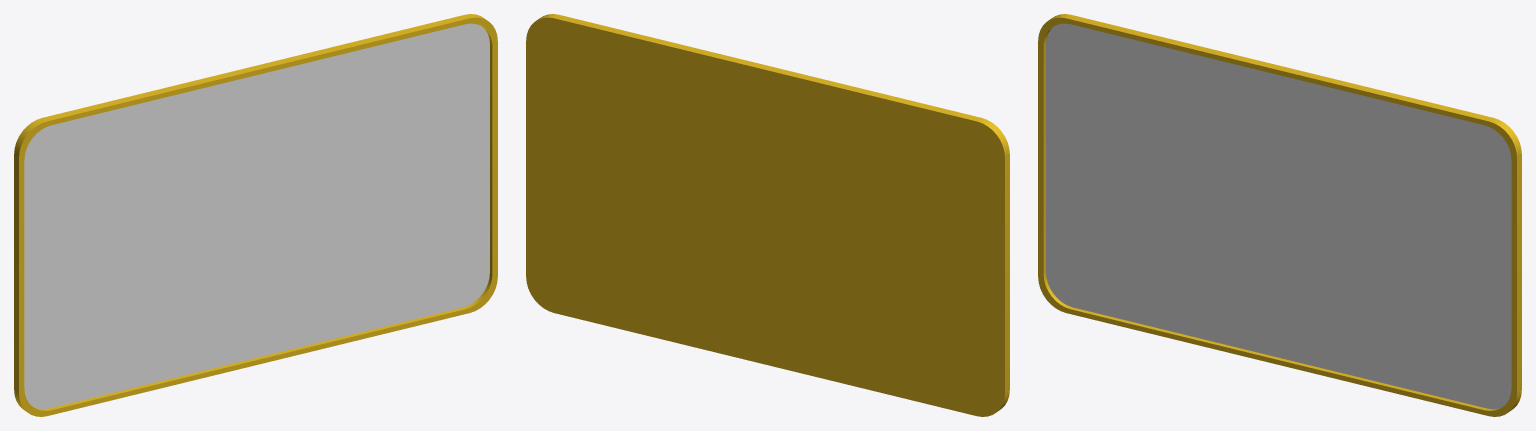
3 renders of one model, left to right at view 1: azimuth 30°, elevation 25°; view 2: azimuth 150°, elevation 25°; view 3: azimuth 330°, elevation 25°, orthographic.
Visible parts, largest first — view 1: Cube; view 2: Cube; view 3: Cube.
Part boxes in pixels (x1,y1,x2,y2): Cube: (14,14,497,416); Cube: (526,14,1009,416); Cube: (1038,14,1521,416).
Bounding box in the file's own units: 3400 × 2000 × 60.
